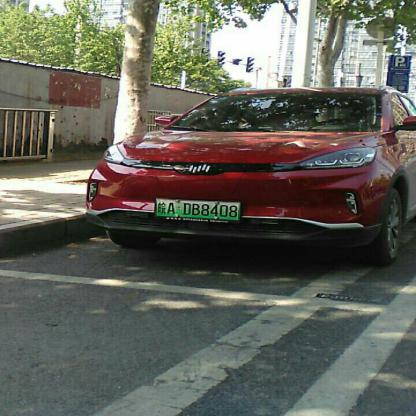lp: (157, 198, 239, 218)
